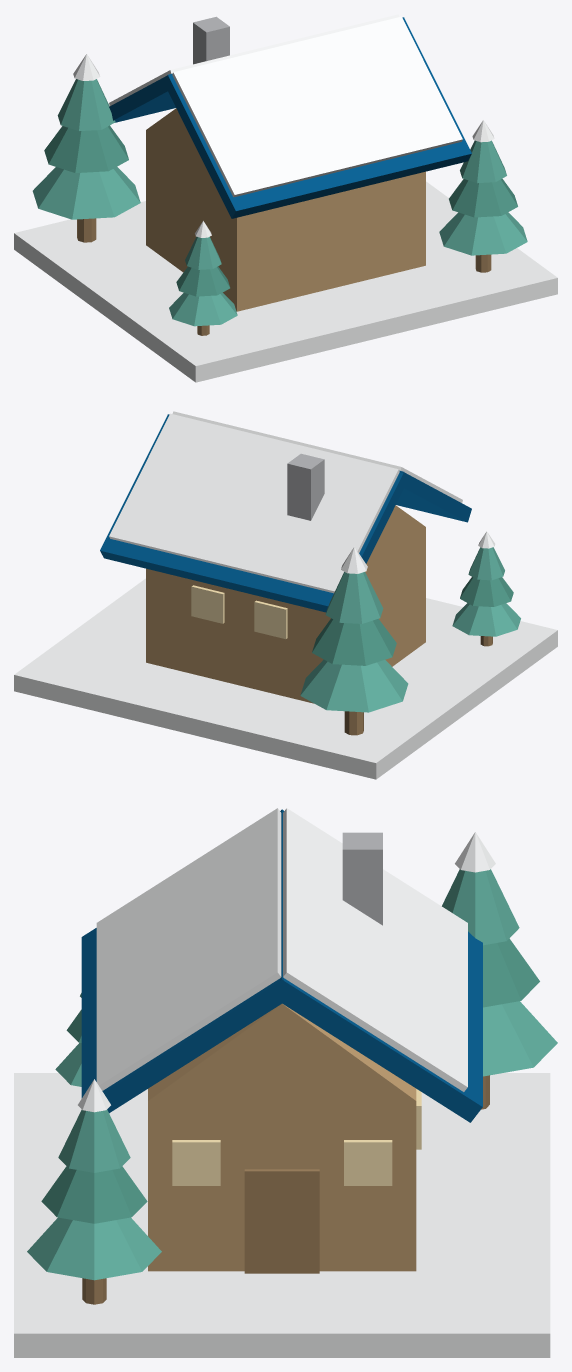
File: travel-icon-chalet.glb
3 renders of one model, top to bottom at view 1: azimuth 30°, elevation 25°; view 2: azimuth 150°, elevation 25°; view 3: azimuth 270°, elevation 25°, orthographic. The views are drawn at different scales.
Parts seen in each view (by area): view 1: chalet_snow_base, chalet_roof_snow_right, chalet_walls, chalet_roof_right, chalet_tree_b_crown_0, chalet_tree_b_crown_1, chalet_tree_a_crown_0, chalet_tree_b_crown_2, chalet_tree_a_crown_1, chalet_tree_c_crown_0, chalet_roof_left, chalet_chimney (+6 smaller); view 2: chalet_snow_base, chalet_roof_snow_left, chalet_walls, chalet_roof_left, chalet_tree_b_crown_0, chalet_tree_b_crown_1, chalet_chimney, chalet_tree_b_crown_2, chalet_roof_right, chalet_tree_c_crown_0, chalet_gable, chalet_tree_c_crown_1 (+5 smaller); view 3: chalet_snow_base, chalet_walls, chalet_roof_snow_right, chalet_roof_snow_left, chalet_gable, chalet_roof_left, chalet_door, chalet_roof_right, chalet_tree_a_crown_0, chalet_tree_a_crown_1, chalet_tree_b_crown_0, chalet_tree_b_crown_2 (+7 smaller).
Part boxes in pixels (bbox=[...]): chalet_snow_base: bbox=[14, 181, 557, 382]; chalet_roof_snow_right: bbox=[172, 16, 462, 197]; chalet_walls: bbox=[146, 130, 425, 311]; chalet_roof_right: bbox=[163, 17, 471, 218]; chalet_tree_b_crown_0: bbox=[32, 167, 140, 219]; chalet_tree_b_crown_1: bbox=[44, 125, 128, 172]; chalet_tree_a_crown_0: bbox=[439, 212, 527, 255]; chalet_tree_b_crown_2: bbox=[57, 79, 115, 130]; chalet_tree_a_crown_1: bbox=[449, 178, 517, 217]; chalet_tree_c_crown_0: bbox=[169, 292, 237, 326]; chalet_roof_left: bbox=[109, 17, 404, 122]; chalet_chimney: bbox=[193, 16, 229, 64]; chalet_snow_base: bbox=[14, 578, 557, 779]; chalet_roof_snow_left: bbox=[109, 413, 399, 593]; chalet_walls: bbox=[146, 527, 425, 703]; chalet_roof_left: bbox=[100, 414, 403, 612]; chalet_tree_b_crown_0: bbox=[300, 659, 408, 712]; chalet_tree_b_crown_1: bbox=[312, 618, 396, 665]; chalet_chimney: bbox=[287, 453, 324, 520]; chalet_tree_b_crown_2: bbox=[325, 572, 383, 623]; chalet_roof_right: bbox=[167, 414, 471, 522]; chalet_tree_c_crown_0: bbox=[452, 603, 520, 636]; chalet_gable: bbox=[366, 505, 425, 569]; chalet_tree_c_crown_1: bbox=[460, 577, 513, 606]; chalet_snow_base: bbox=[14, 1073, 550, 1357]; chalet_walls: bbox=[148, 1101, 416, 1271]; chalet_roof_snow_right: bbox=[96, 808, 281, 1090]; chalet_roof_snow_left: bbox=[283, 808, 467, 1091]; chalet_gable: bbox=[148, 1003, 416, 1100]; chalet_roof_left: bbox=[269, 809, 482, 1122]; chalet_door: bbox=[244, 1169, 319, 1273]; chalet_roof_right: bbox=[81, 809, 294, 1113]; chalet_tree_a_crown_0: bbox=[27, 1217, 161, 1280]; chalet_tree_a_crown_1: bbox=[41, 1166, 147, 1223]; chalet_tree_b_crown_0: bbox=[483, 1001, 557, 1076]; chalet_tree_b_crown_2: bbox=[442, 869, 519, 945].
Size of the model in its own units: 2.31 by 1.45 by 2.03.
